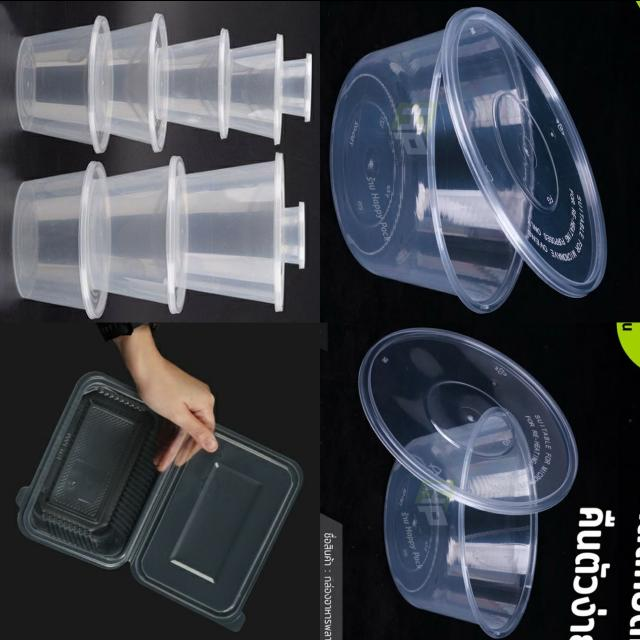plastik: (17, 372, 302, 630), (331, 7, 535, 311), (441, 6, 607, 295), (359, 328, 578, 513), (385, 462, 538, 637), (178, 152, 304, 310), (89, 155, 185, 313), (13, 161, 107, 318), (16, 16, 109, 150), (95, 12, 168, 152), (229, 33, 312, 144), (156, 28, 229, 137), (282, 52, 312, 122), (282, 201, 305, 267)
